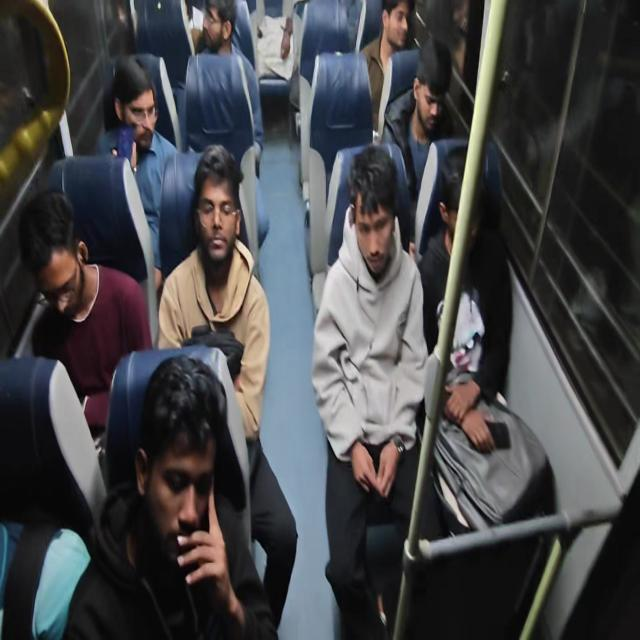1: (190, 142, 253, 288)
person: (148, 346, 232, 570), (16, 184, 91, 337), (342, 139, 402, 283), (436, 143, 487, 262), (108, 59, 165, 149), (414, 34, 455, 137), (191, 0, 242, 59), (383, 1, 413, 54)
